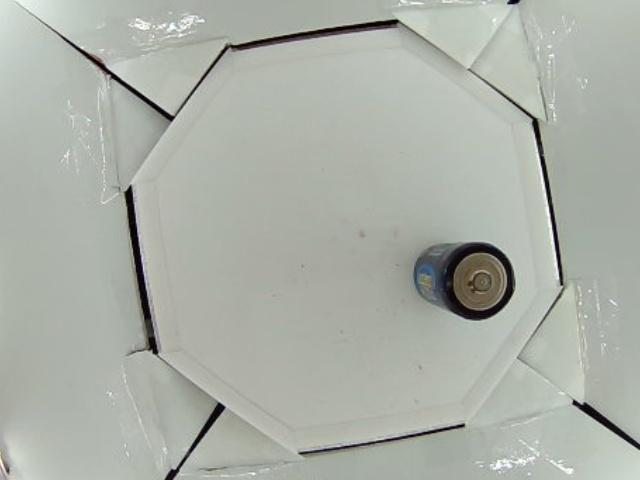Battery: (413, 243, 517, 321)
